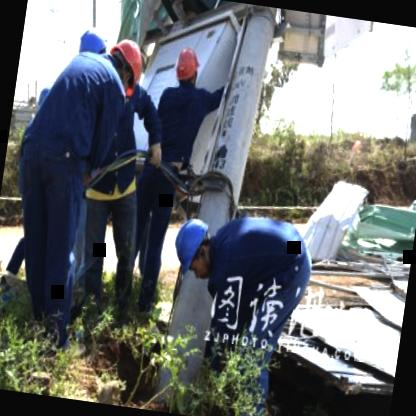helmet: (169, 215, 218, 288), (102, 35, 148, 98), (70, 22, 112, 65), (172, 46, 202, 90)
